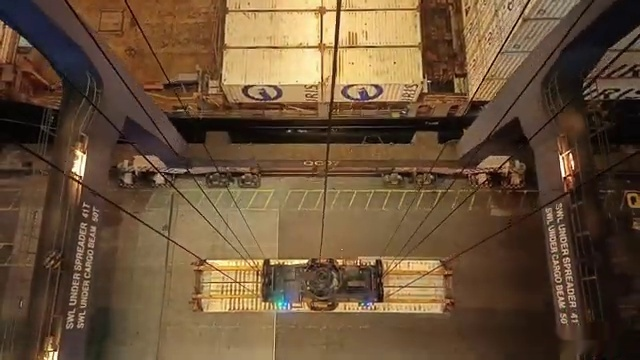container: (183, 253, 459, 320), (219, 47, 423, 104), (224, 9, 422, 46), (222, 1, 423, 30), (222, 0, 424, 23), (222, 0, 421, 20), (455, 3, 640, 24), (209, 0, 435, 17)
guide_mark: (107, 192, 540, 210), (67, 355, 561, 360)
spreader: (184, 250, 463, 317)
target_slot: (179, 245, 470, 322)
